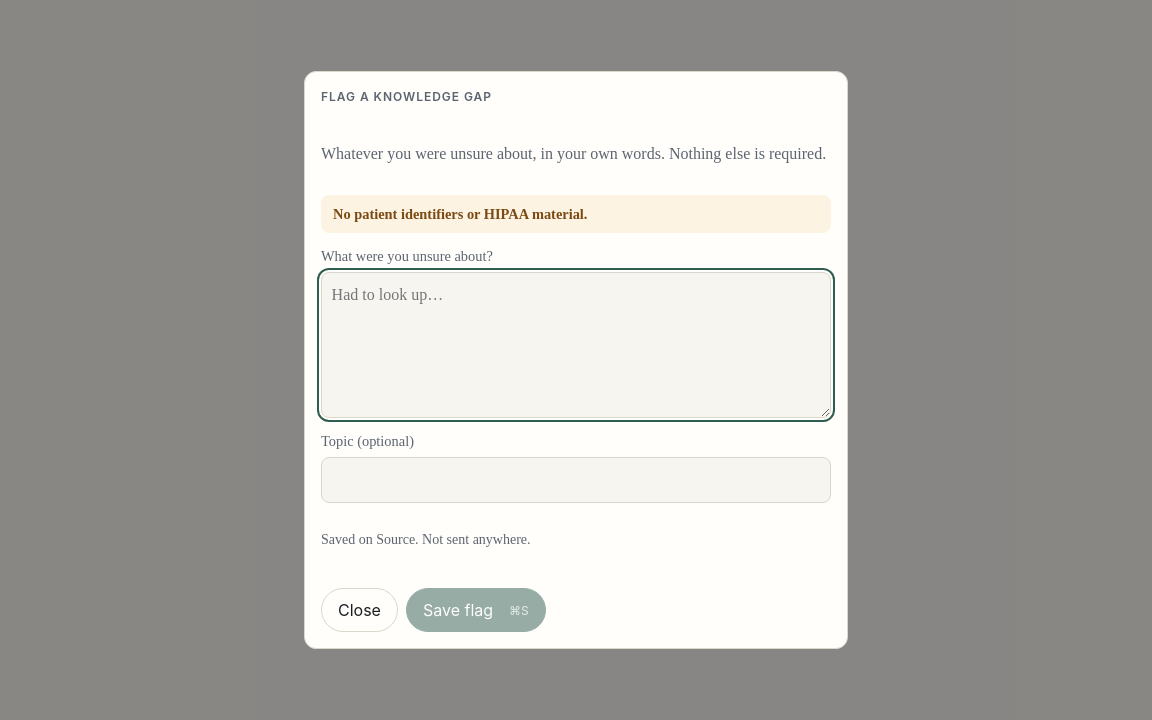
Scenario: capture › keeps the words when the save fails
The width and height of the screenshot is (1152, 720).
Step 1. Type "Worth keeping" into the text box labelled "What were you unsure about?" → [576, 345], box [321,272,831,418]
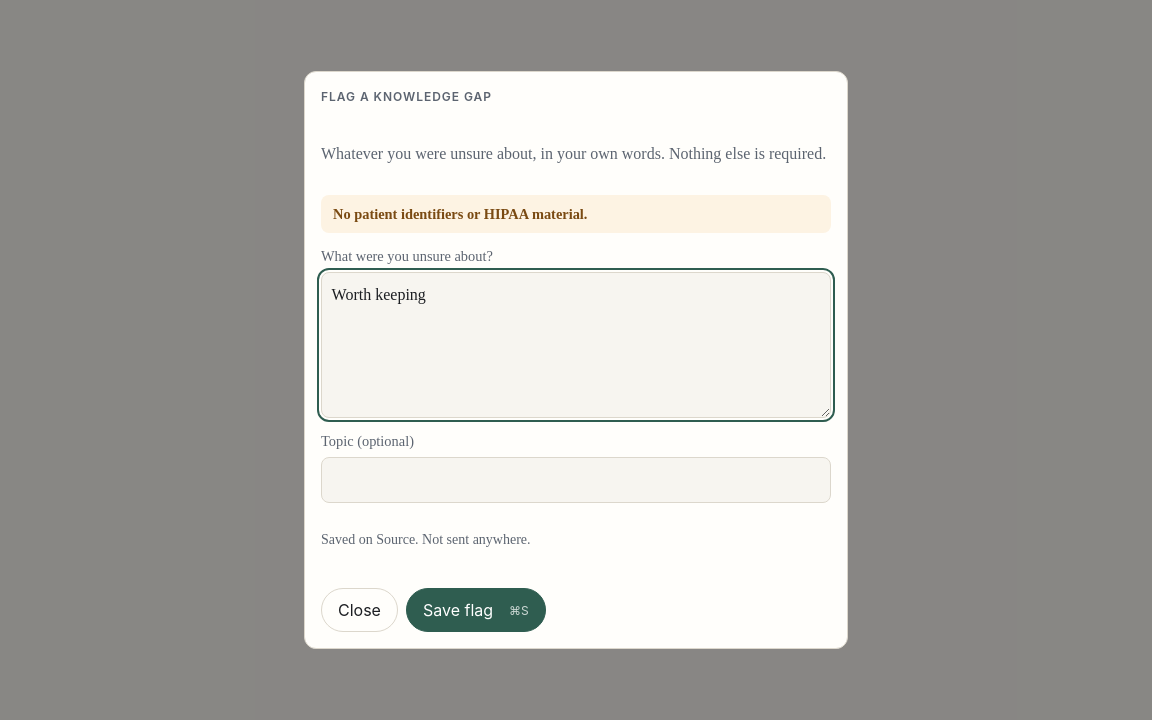
Step 2. Click the button "Save flag ⌘S" → [476, 610], box [406,588,546,632]
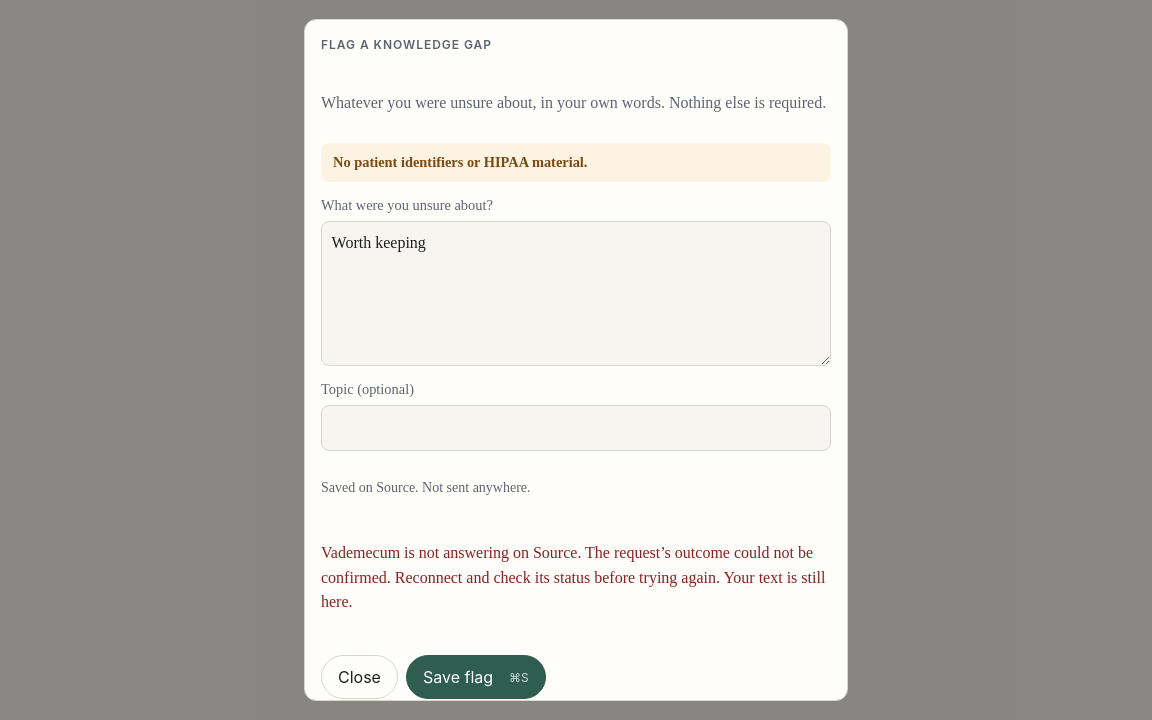
Result: the message shows "not answering on Source" at [321,544,813,586]
Result: the message shows "your text is still here" at [321,569,825,610]
